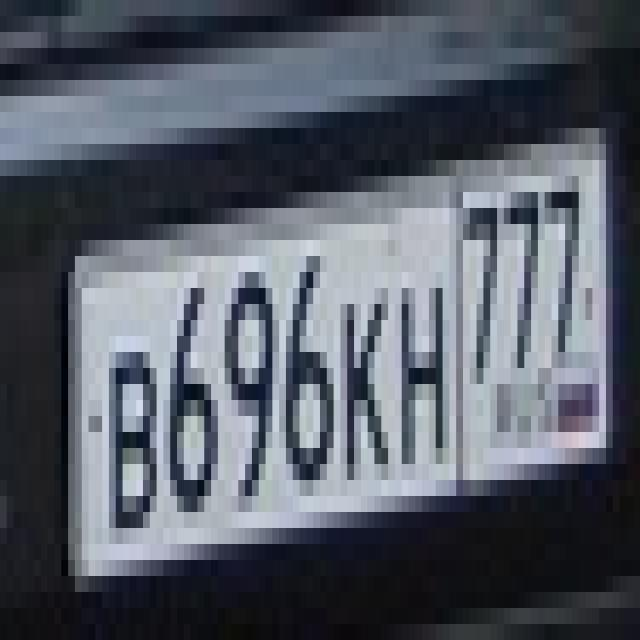licenseplate: (30, 109, 625, 613)
